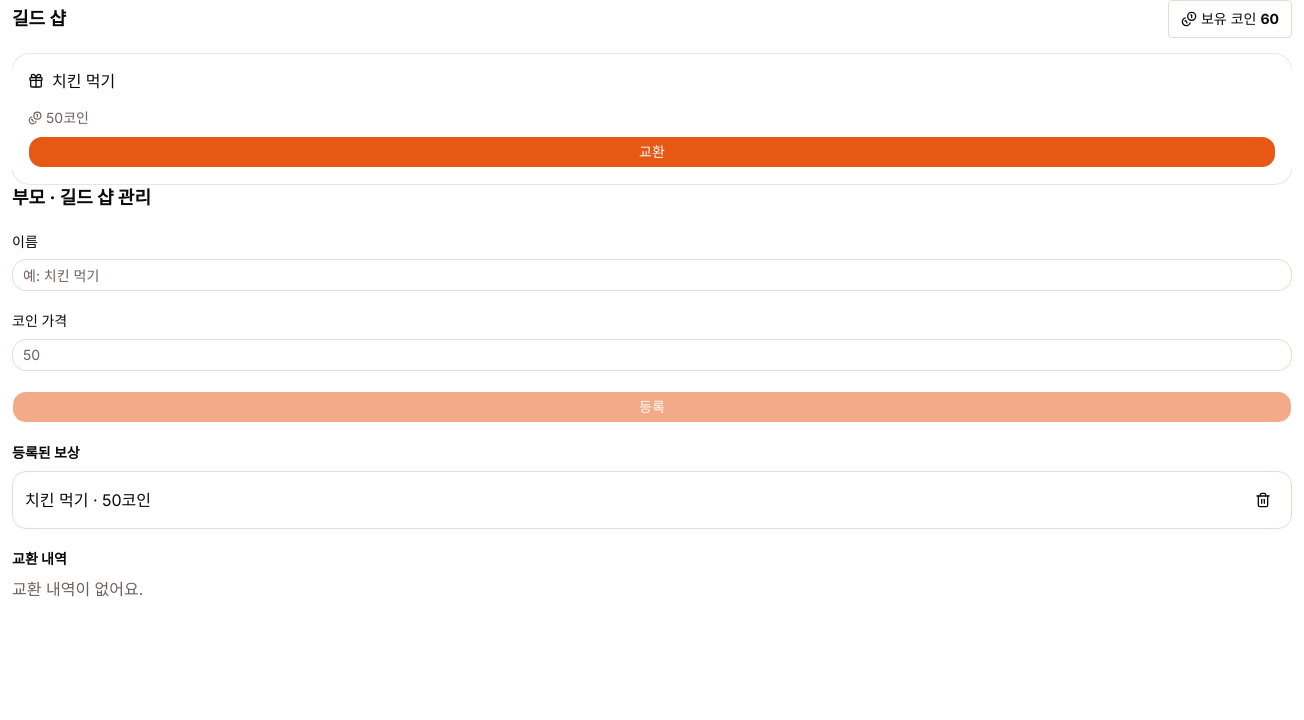
길드 샵 — 보상 교환 (S10, S11, INV-4) › [S10-1][S10-2][S10-3] 교환 시 코인 즉시 차감, 교환됨 표시, 부모 내역 반영
Expected: the text "보유 코인" is shown, [1201,10,1256,27]
Expected: the text "60" is shown, [1260,9,1279,29]
Click the button "교환" at (652, 152), box [28,136,1276,168]
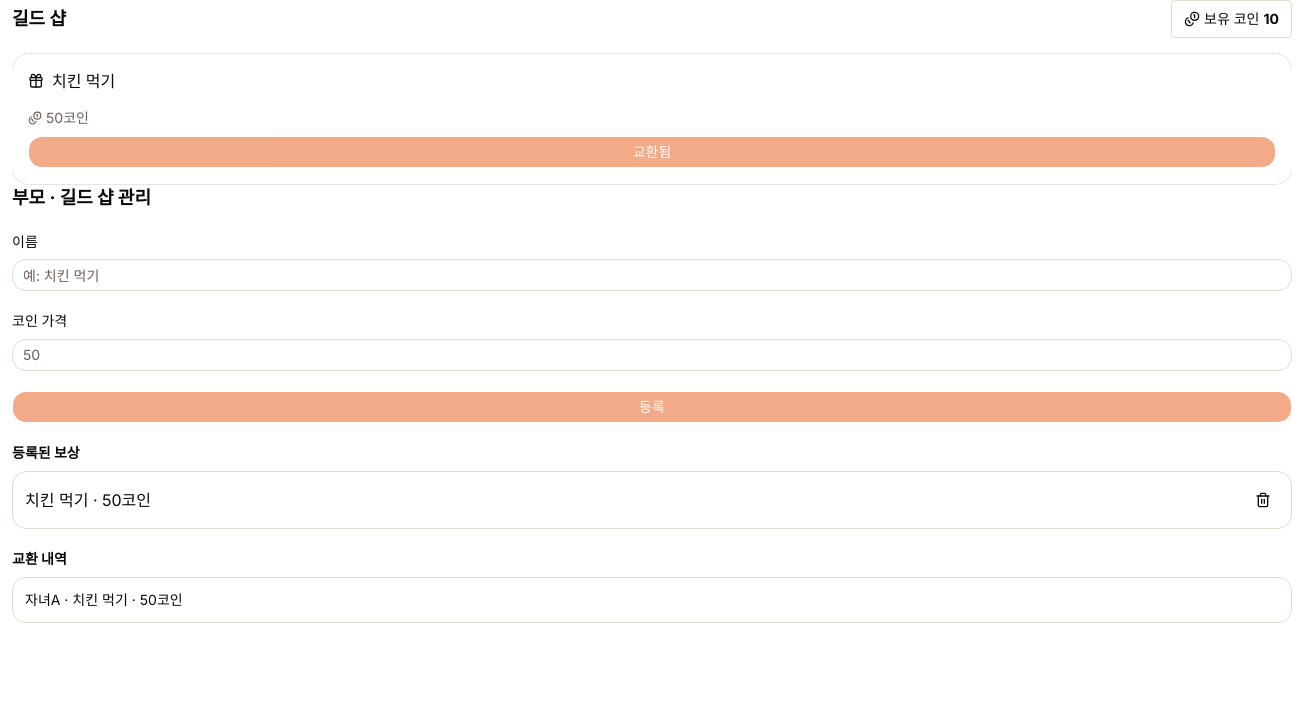
Expected: the text "10" is shown, [1264,9,1279,29]
Expected: the button "교환됨" is disabled, [28,136,1276,168]
Expected: the list item "자녀A · 치킨 먹기 · 50코인" is shown, [12,576,1292,622]
